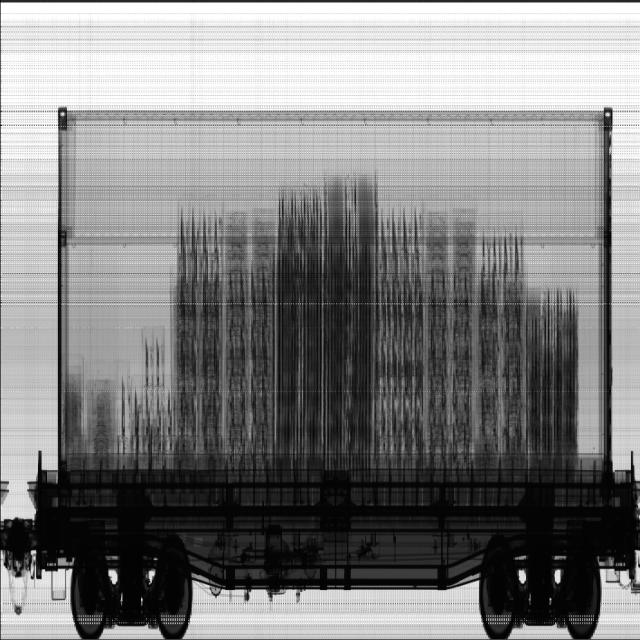spare parts: (424, 203, 525, 468)
